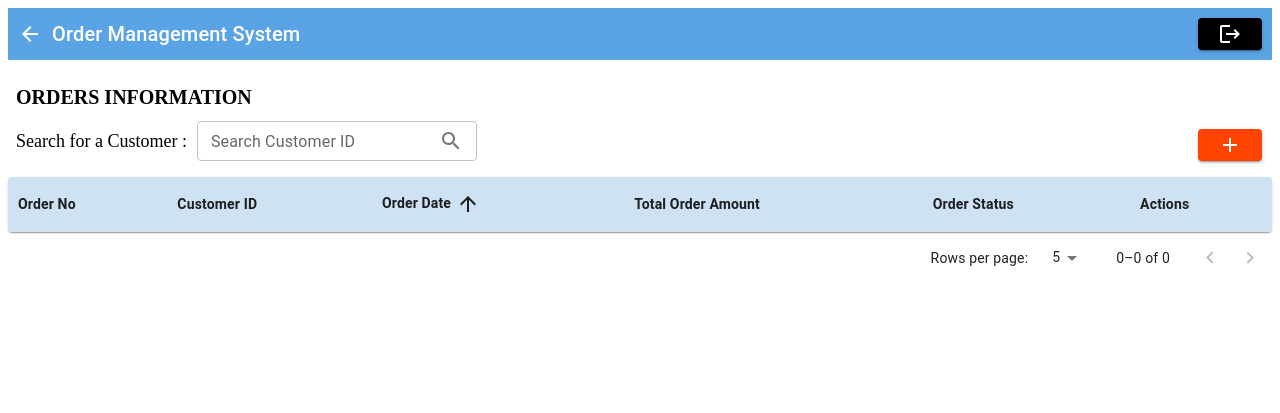
it: Order Component › user can sort orders by date in ascending order
This screenshot has width=1280, height=413.
Click the button named "sort" at x=468, y=204, box [451,187,485,221]
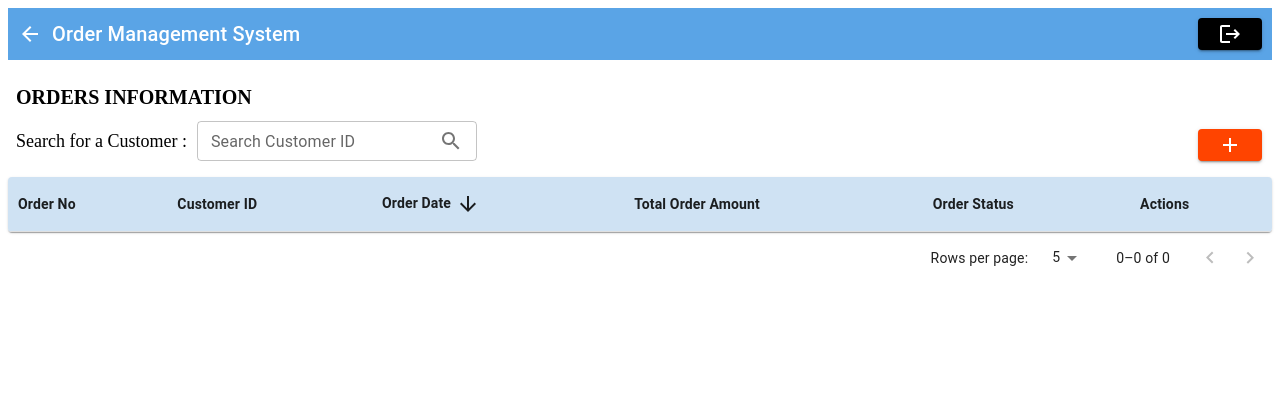
Click the button named "sort" at x=468, y=204, box [451,187,485,221]
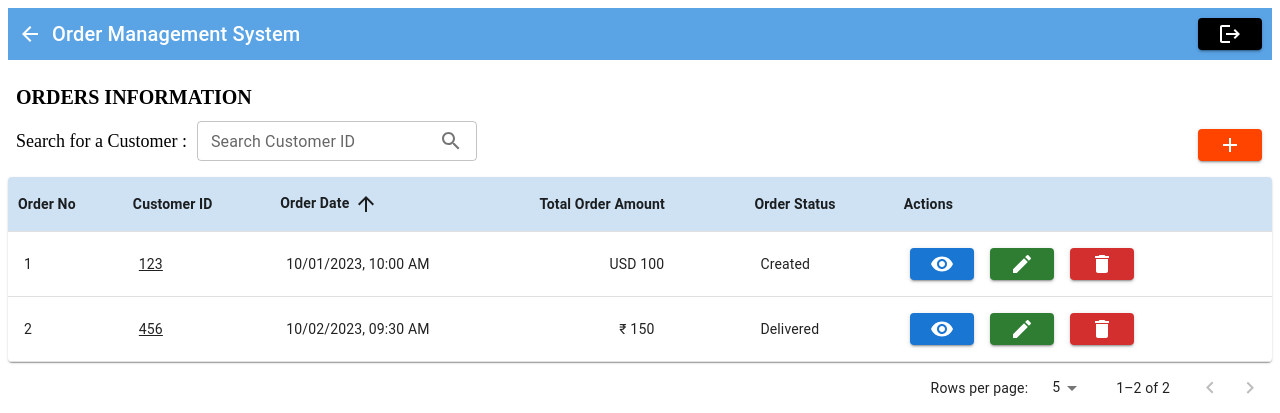
Now the text "1" is shown, box [8,232,123,296]
Now the text "2" is shown, box [8,296,123,362]
